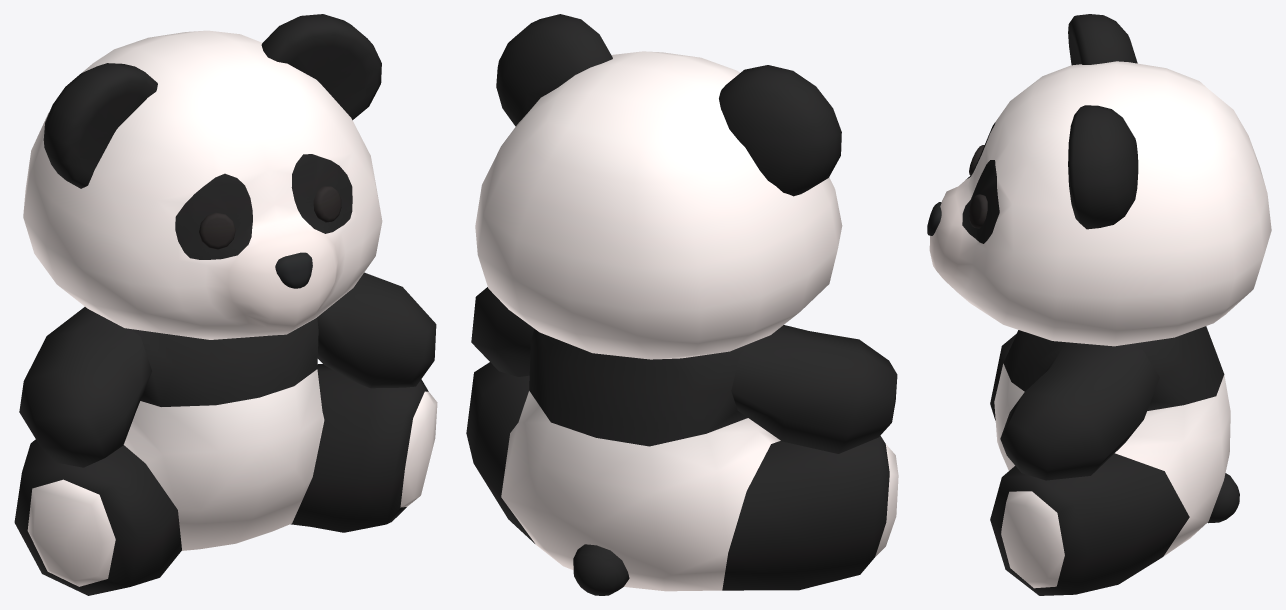
Rendered from Panda_01.glb.
3 views of the same model, side by side, from view 1: azimuth 30°, elevation 25°; view 2: azimuth 150°, elevation 25°; view 3: azimuth 270°, elevation 25° (orthographic). The views are drawn at different scales.
Visible parts, largest first — view 1: Panda_01; view 2: Panda_01; view 3: Panda_01.
Part boxes in pixels (x1,y1,x2,y2): Panda_01: [14, 14, 437, 595]; Panda_01: [466, 14, 898, 595]; Panda_01: [927, 14, 1271, 595].
Bounding box in the file's own units: 0.3281 × 0.3938 × 0.261.
Materials: 2 (2 with a texture image).
